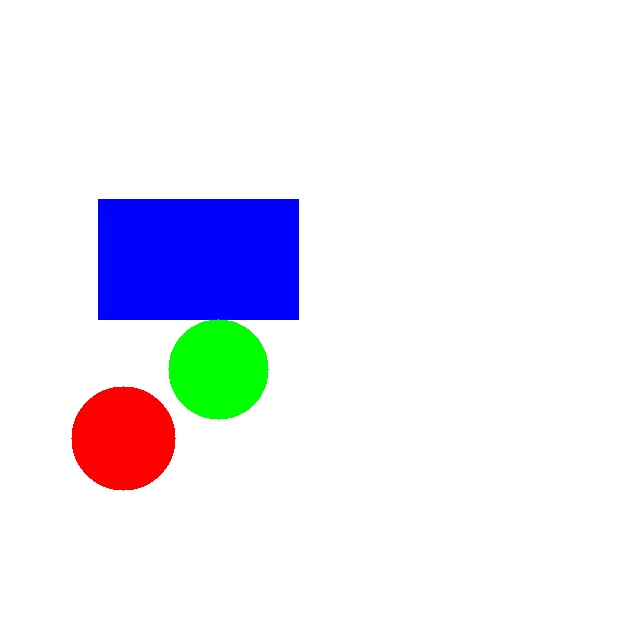cartao: (98, 199, 298, 319)
rosca_externa: (168, 319, 268, 419)
rosca_interna: (71, 386, 175, 490)
